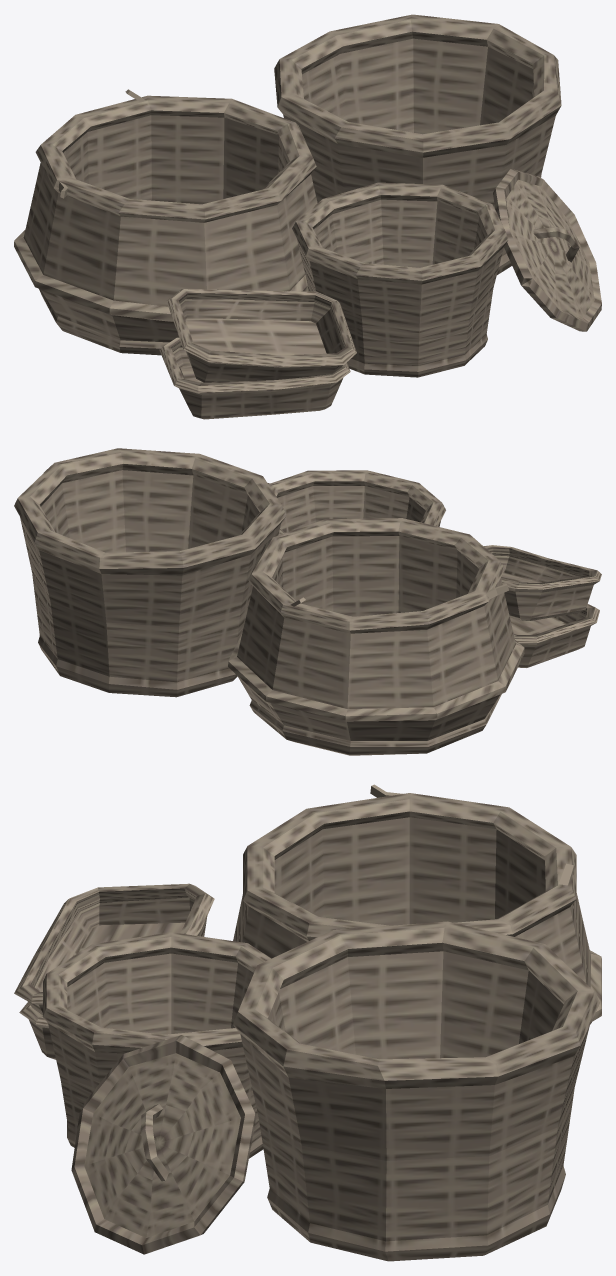
Rendered from ancient_SM_Prop_Basket_Set_01.gltf.
3 views of the same model, one above another, from view 1: azimuth 30°, elevation 25°; view 2: azimuth 150°, elevation 25°; view 3: azimuth 270°, elevation 25° (orthographic). The views are drawn at different scales.
Parts seen in each view (by area): view 1: SM_Prop_Basket_Set_01; view 2: SM_Prop_Basket_Set_01; view 3: SM_Prop_Basket_Set_01.
Part boxes in pixels (x1,y1,x2,y2): SM_Prop_Basket_Set_01: (14, 14, 601, 419); SM_Prop_Basket_Set_01: (14, 448, 601, 755); SM_Prop_Basket_Set_01: (14, 784, 601, 1261).
Bounding box in the file's own units: 1.88 × 0.6174 × 1.5.
Materials: 2 (2 with a texture image).
